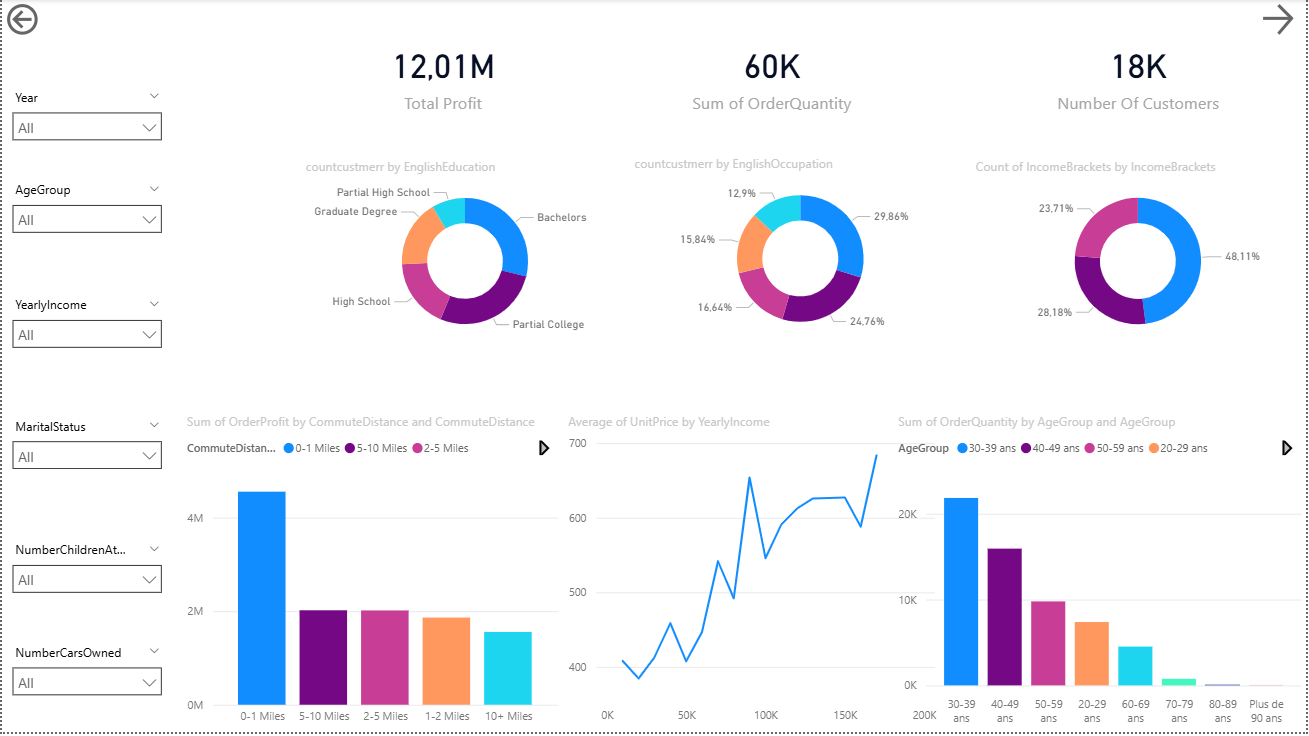

What the dashboard file says about the page in this screenshot:
{"tool":"powerbi","page":{"name":"Customer DASHBORD","canvas":[1280,720],"ordinal":2},"visuals":[{"type":"lineChart","fields":{"Category":["dimCustomer.YearlyIncome"],"Y":["Avg(factInternetSales.UnitPrice)"]},"box":[551.4,405.7,371.4,314.3],"z":0},{"type":"card","fields":{"Values":["Sum(factInternetSales.OrderQuantity)"]},"box":[615.7,0,280,150],"z":1000},{"type":"card","fields":{"Values":["factInternetSales.Total Profit"]},"box":[292.9,0,280,150],"z":2000},{"type":"slicer","fields":{"Values":["DateTable.Year"]},"box":[0,82.9,167.1,72.9],"z":3000},{"type":"columnChart","fields":{"Category":["dimCustomer.CommuteDistance"],"Y":["Sum(factInternetSales.OrderProfit)"],"Series":["dimCustomer.CommuteDistance"]},"box":[177.1,405.7,374.3,314.3],"z":4000},{"type":"slicer","fields":{"Values":["dimCustomer.Age_Group"]},"box":[0,174.3,167.1,72.9],"z":5000},{"type":"card","fields":{"Values":["dimCustomer.countcustmerr"]},"box":[975.7,0,280,150],"z":6000},{"type":"slicer","fields":{"Values":["dimCustomer.YearlyIncome"]},"box":[0,287.1,167.1,72.9],"z":7000},{"type":"slicer","fields":{"Values":["dimCustomer.MaritalStatus"]},"box":[0,405.7,167.1,72.9],"z":8000},{"type":"slicer","fields":{"Values":["dimCustomer.NumberChildrenAtHome"]},"box":[0,527.1,167.1,72.9],"z":9000},{"type":"slicer","fields":{"Values":["dimCustomer.NumberCarsOwned"]},"box":[0,628.6,167.1,72.9],"z":10000},{"type":"donutChart","fields":{"Y":["dimCustomer.countcustmerr"],"Category":["dimCustomer.EnglishEducation"]},"box":[292.9,155.7,322.9,187.1],"z":11000},{"type":"donutChart","fields":{"Y":["dimCustomer.countcustmerr"],"Category":["dimCustomer.EnglishOccupation"]},"box":[615.7,152.9,335.7,187.1],"z":12000},{"type":"donutChart","fields":{"Category":["dimCustomer.IncomeBrackets"],"Y":["CountNonNull(dimCustomer.IncomeBrackets)"]},"box":[951.4,155.7,328.6,187.1],"z":13000},{"type":"columnChart","fields":{"Series":["dimCustomer.AgeGroup"],"Category":["dimCustomer.AgeGroup"],"Y":["Sum(factInternetSales.OrderQuantity)"]},"box":[874.3,405.7,405.7,314.3],"z":14000},{"type":"actionButton","box":[1231.4,0,48.6,40],"z":14001},{"type":"actionButton","box":[0,0,100,40],"z":14002}]}

Visuals, with their boxes in screenshot pixels (x1, y1, x2, y2), scaled from the page's 1280x720 canvas onto the 1309x736 screenshot:
lineChart - dimCustomer.YearlyIncome x Avg(factInternetSales.UnitPrice): (x1=564, y1=415, x2=944, y2=735)
card - Sum(factInternetSales.OrderQuantity): (x1=630, y1=0, x2=916, y2=153)
card - factInternetSales.Total Profit: (x1=300, y1=0, x2=586, y2=153)
slicer - DateTable.Year: (x1=0, y1=85, x2=171, y2=159)
columnChart - dimCustomer.CommuteDistance x Sum(factInternetSales.OrderProfit): (x1=181, y1=415, x2=564, y2=735)
slicer - dimCustomer.Age_Group: (x1=0, y1=178, x2=171, y2=253)
card - dimCustomer.countcustmerr: (x1=998, y1=0, x2=1284, y2=153)
slicer - dimCustomer.YearlyIncome: (x1=0, y1=293, x2=171, y2=368)
slicer - dimCustomer.MaritalStatus: (x1=0, y1=415, x2=171, y2=489)
slicer - dimCustomer.NumberChildrenAtHome: (x1=0, y1=539, x2=171, y2=613)
slicer - dimCustomer.NumberCarsOwned: (x1=0, y1=643, x2=171, y2=717)
donutChart - dimCustomer.countcustmerr x dimCustomer.EnglishEducation: (x1=300, y1=159, x2=630, y2=350)
donutChart - dimCustomer.countcustmerr x dimCustomer.EnglishOccupation: (x1=630, y1=156, x2=973, y2=348)
donutChart - dimCustomer.IncomeBrackets x CountNonNull(dimCustomer.IncomeBrackets): (x1=973, y1=159, x2=1308, y2=350)
columnChart - dimCustomer.AgeGroup x dimCustomer.AgeGroup: (x1=894, y1=415, x2=1308, y2=735)
actionButton: (x1=1259, y1=0, x2=1308, y2=41)
actionButton: (x1=0, y1=0, x2=102, y2=41)
